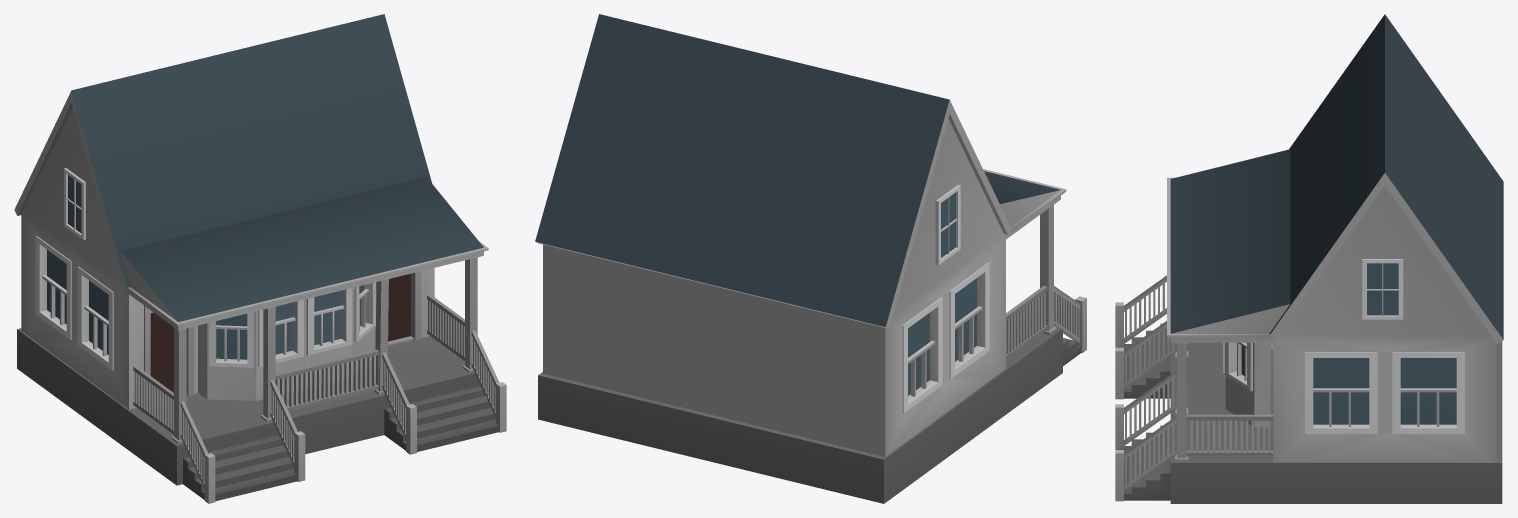
The model's file is house_010.glb.
3 renders of one model, left to right at view 1: azimuth 30°, elevation 25°; view 2: azimuth 150°, elevation 25°; view 3: azimuth 270°, elevation 25°, orthographic. The views are drawn at different scales.
Parts seen in each view (by area): view 1: house_010; view 2: house_010; view 3: house_010.
Part boxes in pixels (x1,y1,x2,y2): house_010: (14, 14, 506, 503); house_010: (535, 14, 1086, 503); house_010: (1115, 14, 1503, 503).
Bounding box in the file's own units: 9.64 × 9.42 × 9.98.
1 material, 1 textured.
